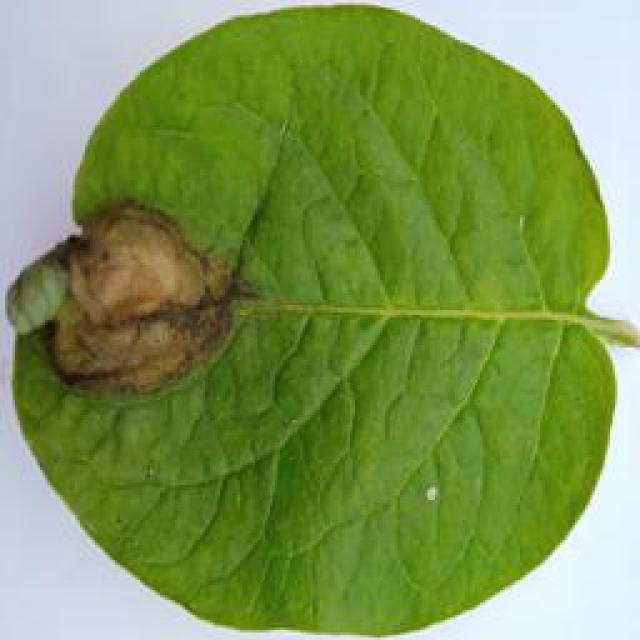Potato_Late_Blight: (8, 8, 617, 636)
